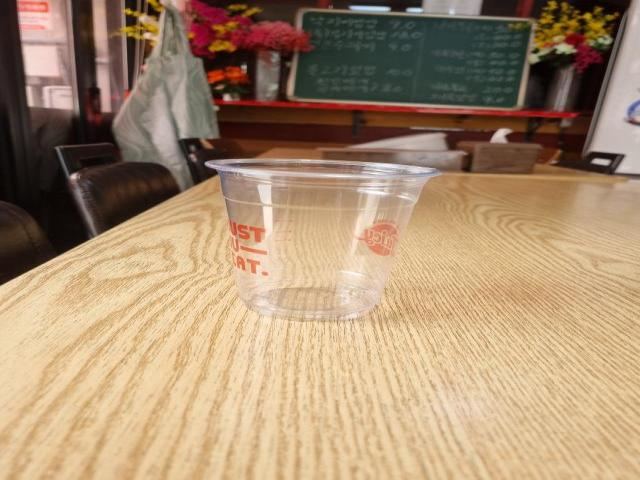cup: (196, 149, 448, 328)
